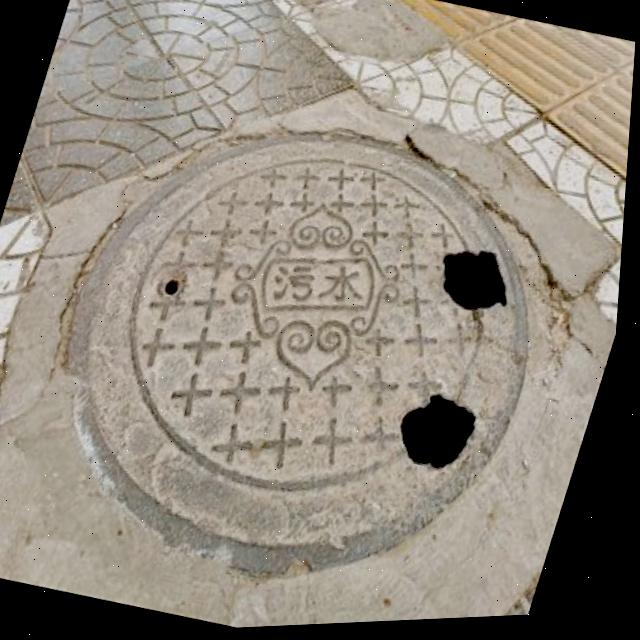manhole: (1, 64, 598, 639)
